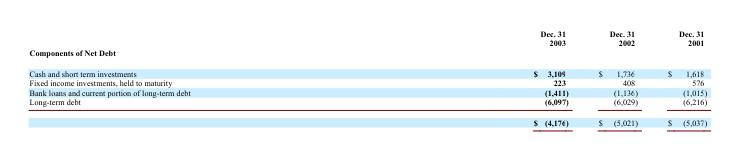table: (28, 28, 706, 126)
table column: (28, 28, 361, 126), (361, 28, 582, 126), (582, 28, 651, 126), (651, 28, 706, 126)
table column header: (28, 28, 706, 47)
table projected row header: (28, 47, 706, 62)
table row: (28, 28, 706, 47), (28, 47, 706, 62), (28, 62, 706, 77), (28, 96, 706, 111), (28, 111, 706, 126), (28, 77, 706, 87), (28, 87, 706, 96)
